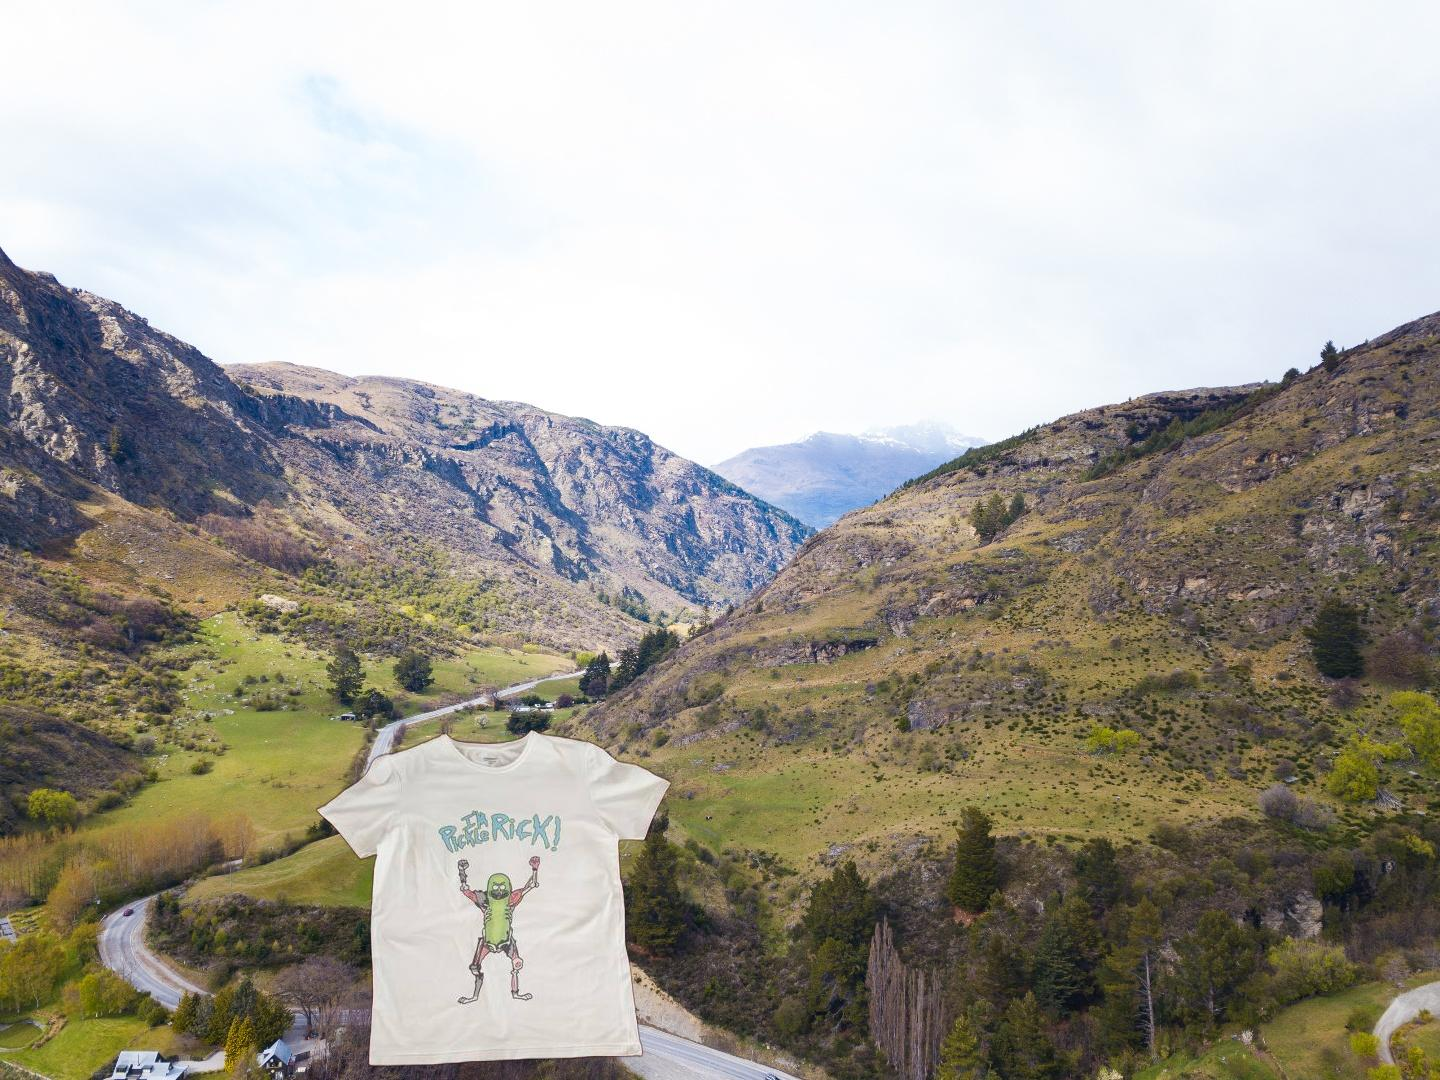clothes: (315, 725, 674, 1072)
